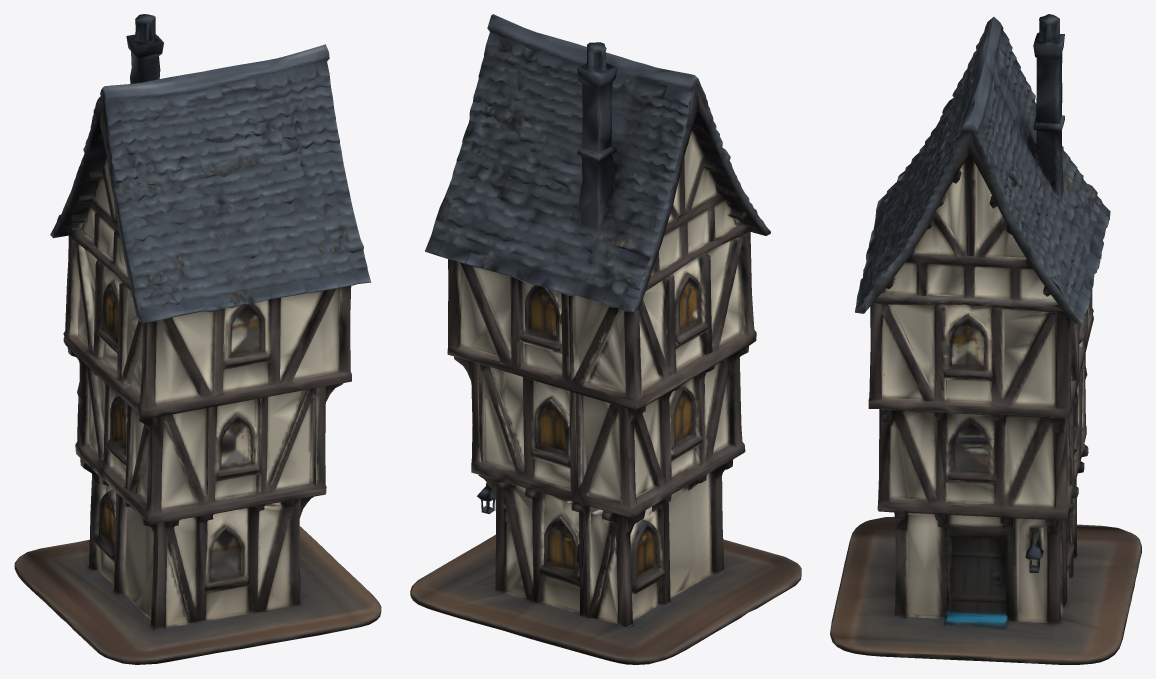
3 views of the same model, side by side, from view 1: azimuth 30°, elevation 25°; view 2: azimuth 150°, elevation 25°; view 3: azimuth 270°, elevation 25° (orthographic). The views are drawn at different scales.
Parts seen in each view (by area): view 1: repaired; view 2: repaired; view 3: repaired.
Part boxes in pixels (x1,y1,x2,y2): repaired: (14, 14, 381, 664); repaired: (410, 14, 801, 664); repaired: (830, 14, 1141, 664).
Size of the model in its own units: 0.5309 by 0.9994 by 0.4991.
Materials: 1 (1 with a texture image).
